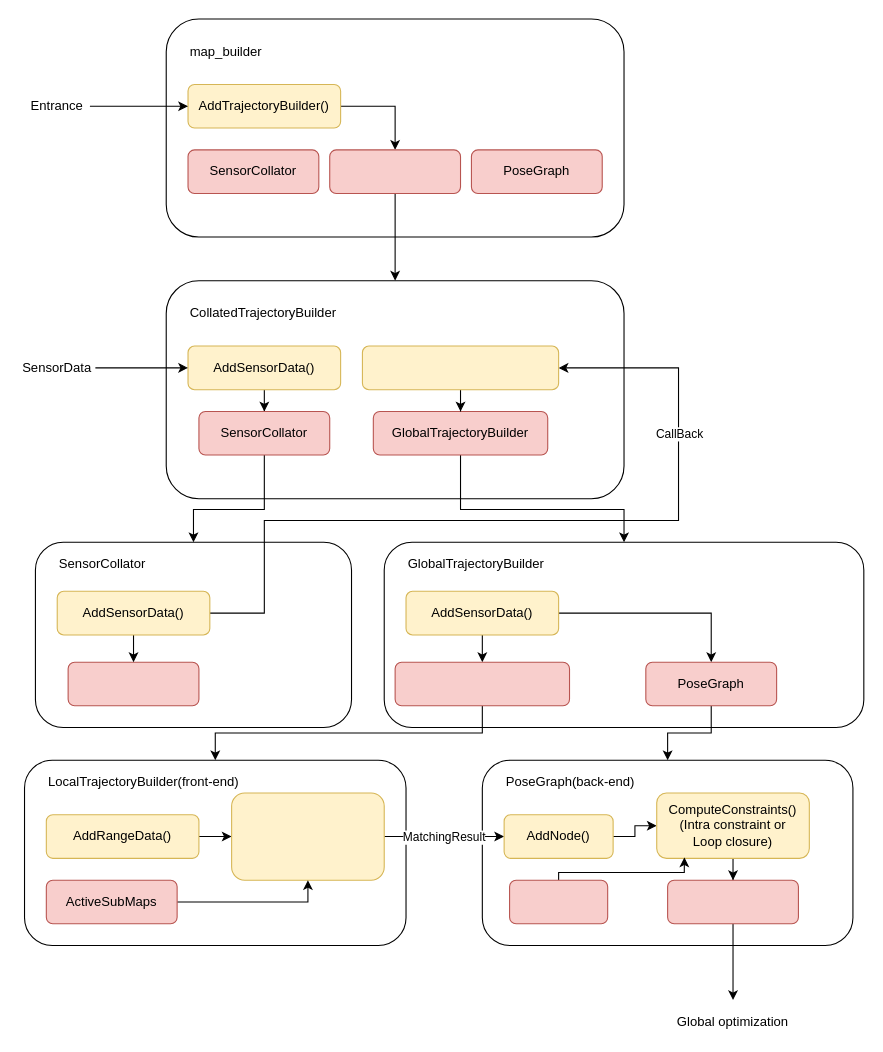
This 883x1052 diagram has some shape labels left out. The shapes that lost their labels are listed below. From the top down, each one's box as (x1, y1, x2, y2) in pixels, then its label:
(329, 149, 461, 193): TrajectoryBuilders
(361, 345, 559, 390): HandleCollatedSensorData()
(67, 661, 199, 706): OrderedMultiQueue
(394, 661, 570, 706): LocalTrajectoryBuilder
(231, 792, 384, 880): ScanMatch() (CSM, Local optimization)
(508, 879, 608, 924): submap_data
(667, 879, 798, 924): OptimizationProblem
